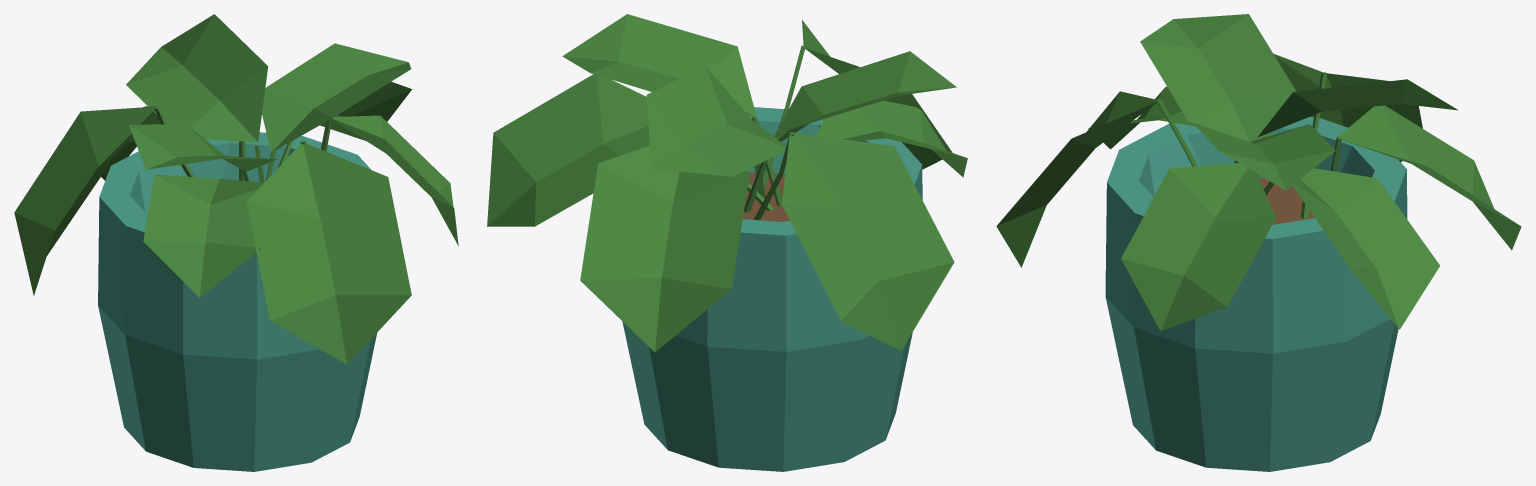
Rendered from Flower_52.fbx.
The picture shows the model from 3 angles, left to right: view 1: azimuth 30°, elevation 25°; view 2: azimuth 150°, elevation 25°; view 3: azimuth 270°, elevation 25°; orthographic projection. The views are drawn at different scales.
Visible parts, largest first — view 1: Flower_52; view 2: Flower_52; view 3: Flower_52.
Boxes of the visible parts, x1,y1,x2,y2 form: Flower_52: [14, 14, 458, 471]; Flower_52: [487, 14, 967, 471]; Flower_52: [996, 14, 1521, 471].
Bounding box in the file's own units: 63.09 × 68.29 × 52.08.
